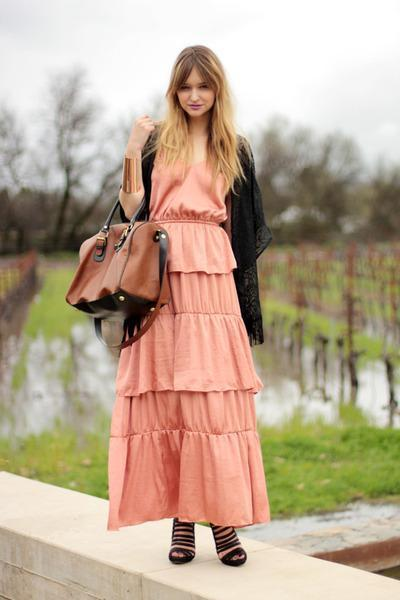bag: (58, 204, 188, 347)
dress: (107, 164, 270, 533)
jacket: (135, 145, 264, 345)
shoe: (216, 539, 246, 566)
